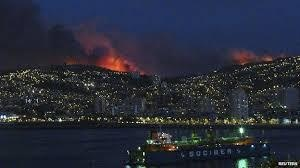fire: (93, 50, 144, 74), (230, 49, 271, 64)
